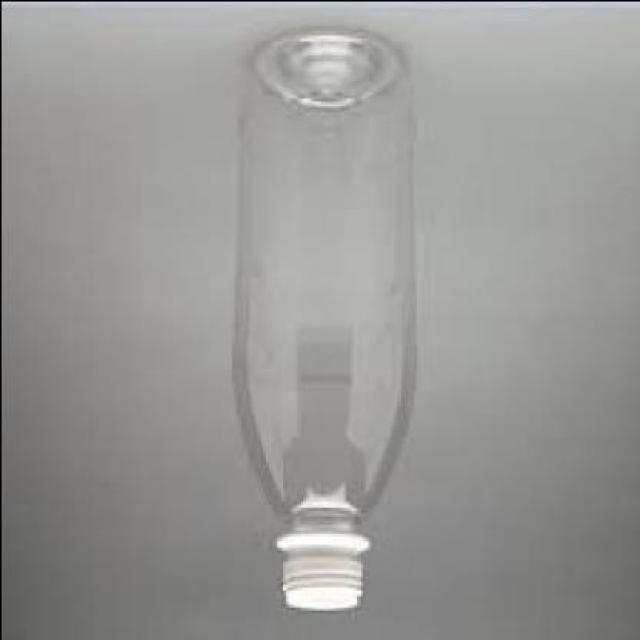PLASTIC: (234, 28, 415, 611), (278, 532, 369, 611)
